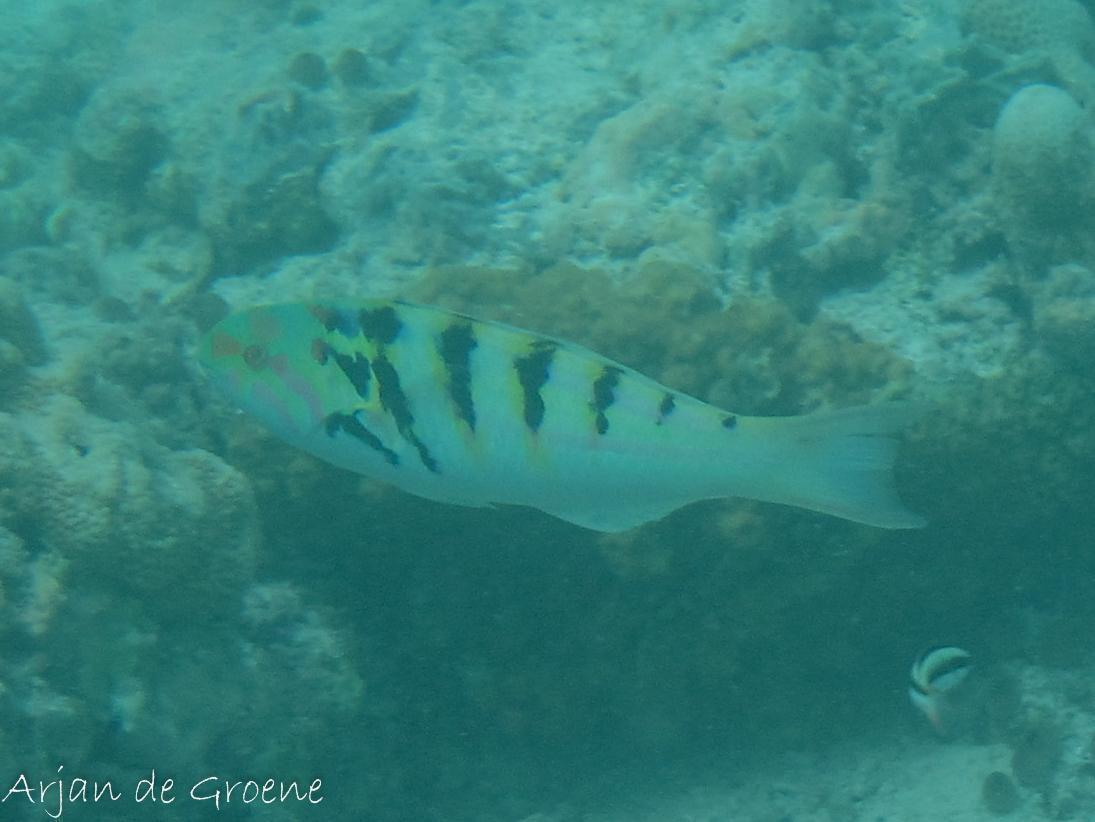Fish: (140, 251, 980, 589)
